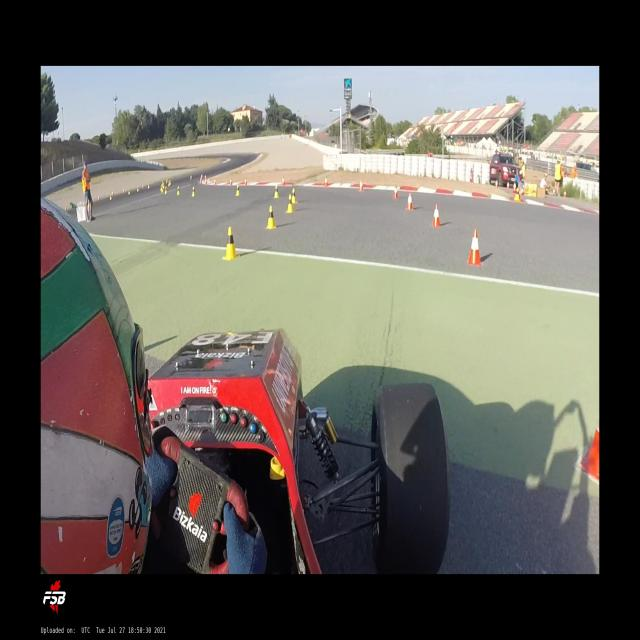orange_cone: (582, 414, 599, 482), (467, 230, 482, 266), (431, 204, 441, 228), (406, 191, 414, 211), (392, 184, 399, 200), (358, 178, 364, 192), (324, 176, 329, 187), (244, 176, 248, 186), (281, 177, 285, 186), (229, 178, 232, 186)
yellow_cone: (223, 226, 240, 260), (266, 205, 276, 230), (286, 194, 294, 213), (291, 188, 298, 204), (514, 187, 520, 201), (274, 185, 280, 199), (235, 184, 240, 196), (191, 186, 195, 198), (177, 185, 180, 196)
